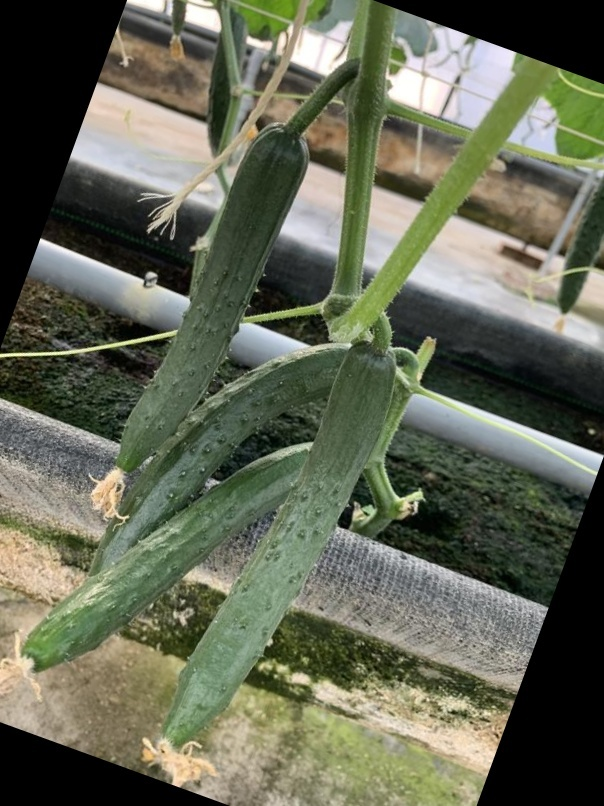mature: (157, 342, 399, 743), (107, 119, 312, 479), (22, 436, 311, 667), (89, 342, 352, 570)
